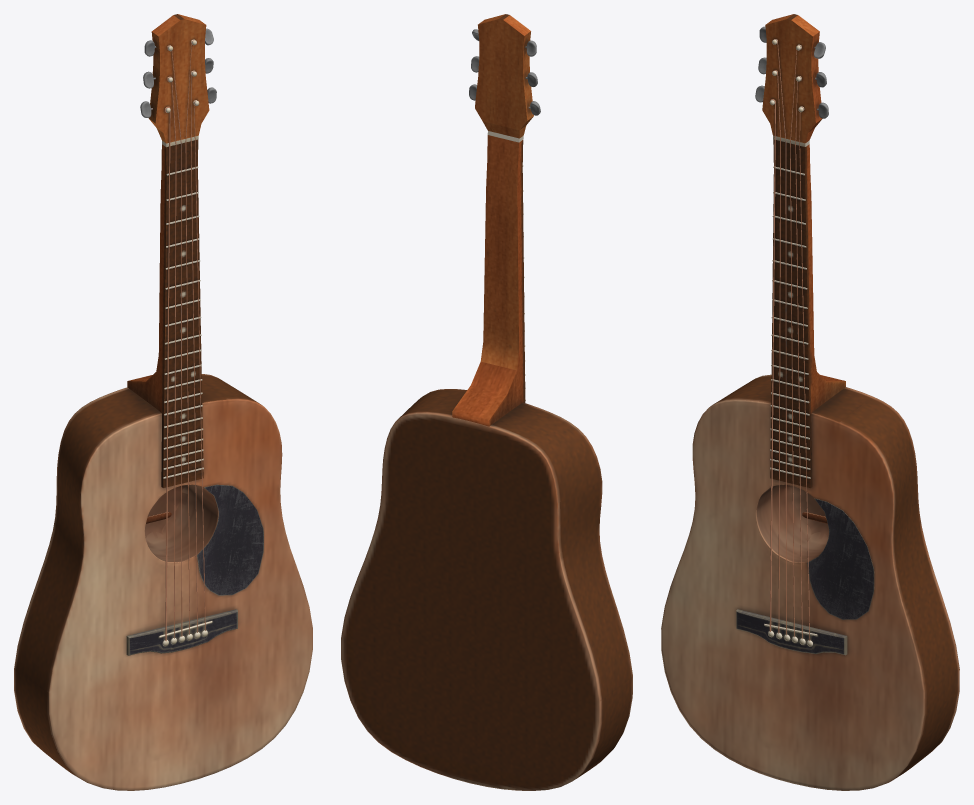
Rendered from guitar.glb.
3 views of the same model, side by side, from view 1: azimuth 30°, elevation 25°; view 2: azimuth 150°, elevation 25°; view 3: azimuth 330°, elevation 25° (orthographic). The views are drawn at different scales.
Visible parts, largest first — view 1: guitar (×5); view 2: guitar (×3); view 3: guitar (×5).
Boxes of the visible parts, left/top/right/bottom form: guitar (×5): left=14, top=14, right=312, bottom=790; guitar (×3): left=341, top=14, right=632, bottom=790; guitar (×5): left=661, top=14, right=959, bottom=790.
Bounding box in the file's own units: 0.3502 × 0.9666 × 0.0918.
Materials: 5 (5 with a texture image).
